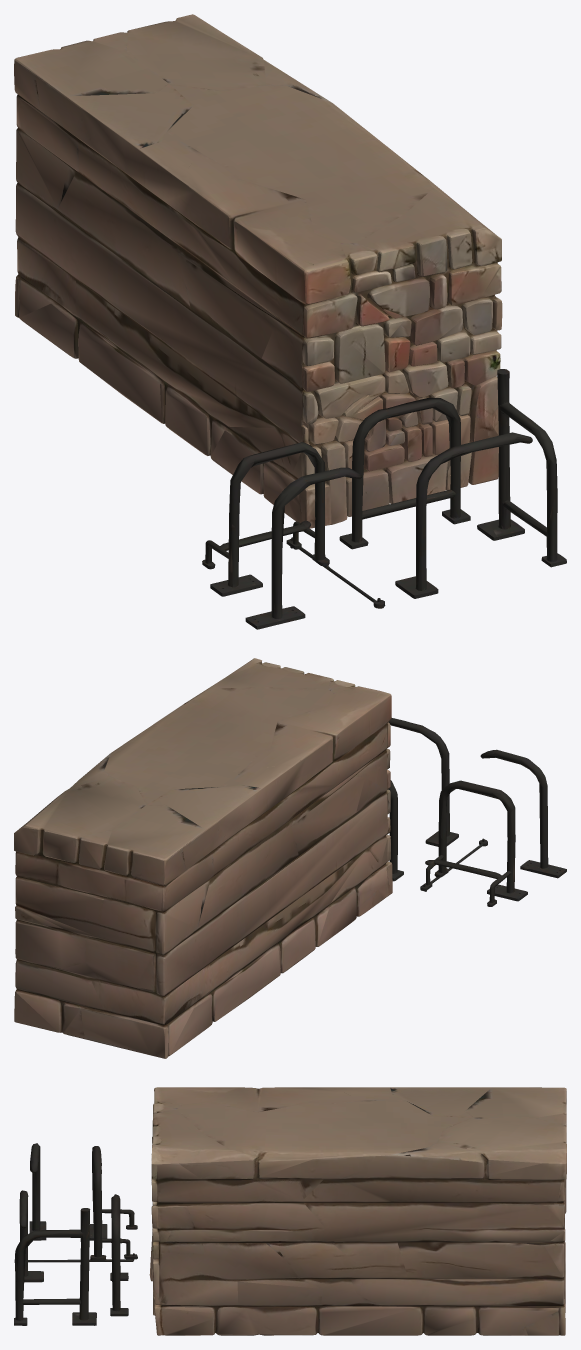
The picture shows the model from 3 angles, top to bottom: view 1: azimuth 30°, elevation 25°; view 2: azimuth 150°, elevation 25°; view 3: azimuth 270°, elevation 25°; orthographic projection. The views are drawn at different scales.
Parts seen in each view (by area): view 1: model; view 2: model; view 3: model.
Boxes of the visible parts, box(x1,y1,x2,y2) form: model: box(14, 14, 566, 629); model: box(14, 658, 566, 1058); model: box(14, 1087, 566, 1335).
Bounding box in the file's own units: 0.9328 × 0.7014 × 1.9.
1 material, 1 textured.
